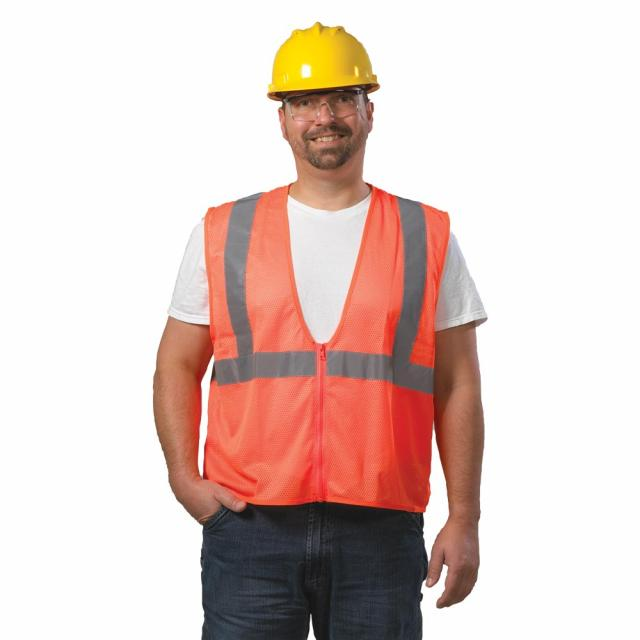Reflective-Jacket: (191, 180, 459, 514)
Safety-Helmet: (264, 20, 382, 104)
